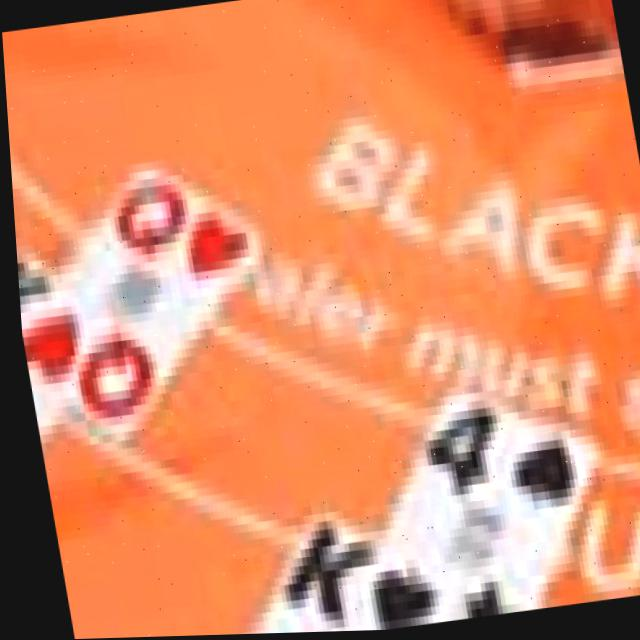Card-4: (379, 374, 596, 621)
Card-K: (241, 501, 439, 635)
Card-Q: (16, 159, 259, 445)
